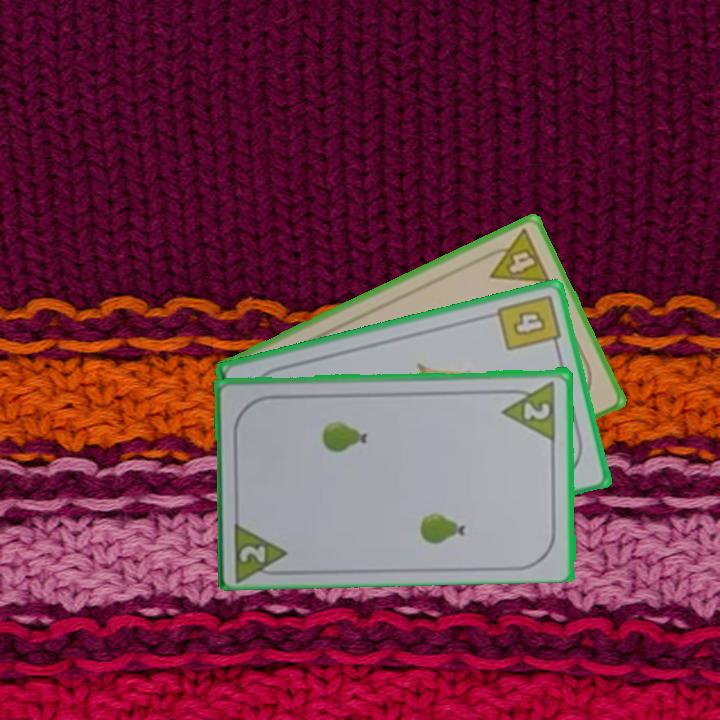2p: (231, 515, 292, 580), (499, 377, 559, 441)
4b: (493, 290, 563, 354)
4p: (478, 225, 554, 286)
